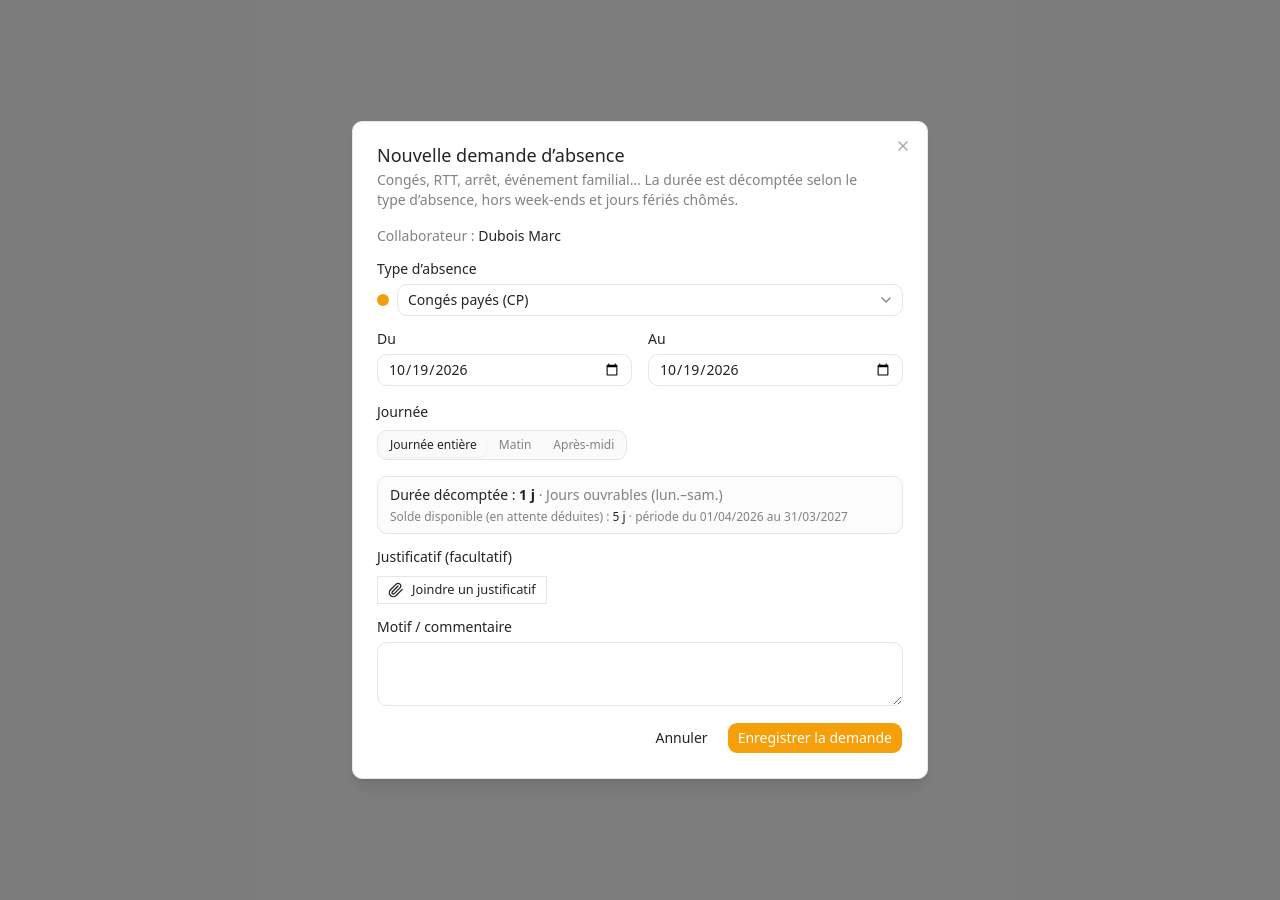
DemandeAbsenceDialog › affiche le collaborateur imposé et calcule la durée en direct (jours ouvrables)
Expected: the text "Dubois Marc" is shown, [478,226,561,245]
Expected: the element with test id "duree-calculee" shows "Durée décomptée : 1 j", [377,476,903,534]
Type "2026-10-23" into the date field labelled "Au". click: (776, 370)
box: [648,354,903,386]
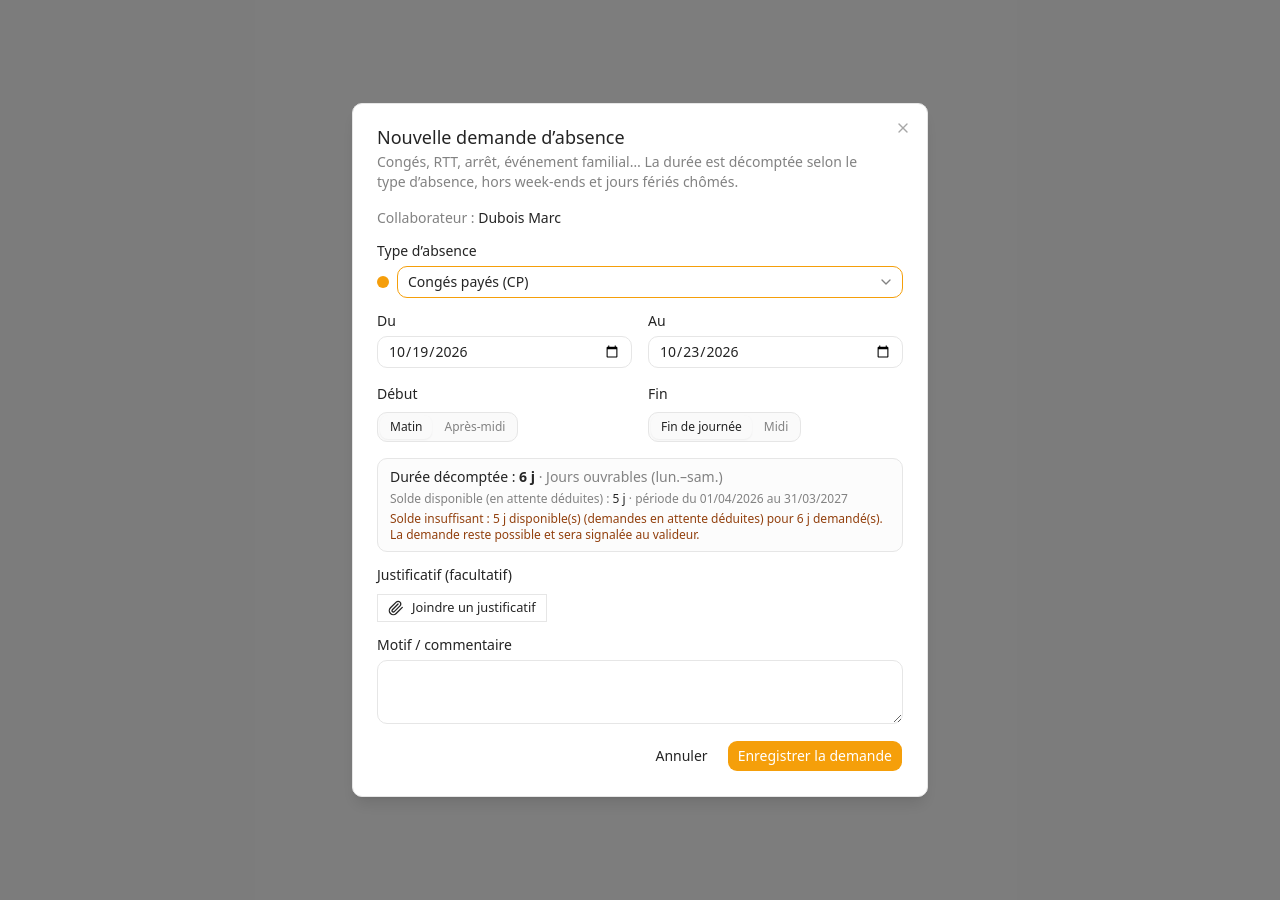
Expected: the element with test id "solde-indicatif" shows "5 j", [613,490,626,507]
Expected: the element with test id "duree-calculee" shows "Durée décomptée : 6 j", [377,458,903,552]
Expected: the element with test id "duree-calculee" shows "Solde insuffisant", [390,510,883,527]
